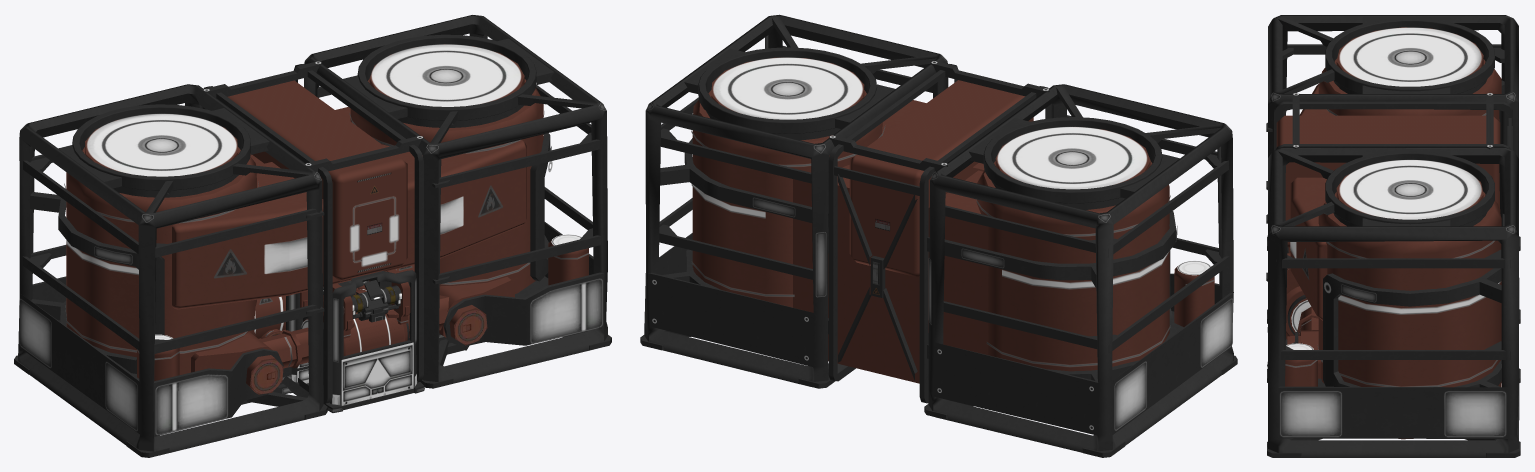
File: treibstoff.glb
3 views of the same model, side by side, from view 1: azimuth 30°, elevation 25°; view 2: azimuth 150°, elevation 25°; view 3: azimuth 270°, elevation 25° (orthographic). The views are drawn at different scales.
Parts seen in each view (by area): view 1: prop_treibstoff_tank_gas_3_05x025x025_a, prop_treibstoff_tank_gas_2_025x0125x0125_a, prop_treibstoff_tank_gas_1_0125x0125x0125_a; view 2: prop_treibstoff_tank_gas_3_05x025x025_a; view 3: prop_treibstoff_tank_gas_3_05x025x025_a.
Part boxes in pixels (bbox=[...]): prop_treibstoff_tank_gas_3_05x025x025_a: bbox=[14, 15, 611, 457]; prop_treibstoff_tank_gas_2_025x0125x0125_a: bbox=[241, 265, 469, 404]; prop_treibstoff_tank_gas_1_0125x0125x0125_a: bbox=[286, 269, 396, 393]; prop_treibstoff_tank_gas_3_05x025x025_a: bbox=[640, 14, 1237, 457]; prop_treibstoff_tank_gas_3_05x025x025_a: bbox=[1266, 15, 1520, 457].
Size of the model in its own units: 5.06 by 2.48 by 2.48.
20 materials, 19 textured.
